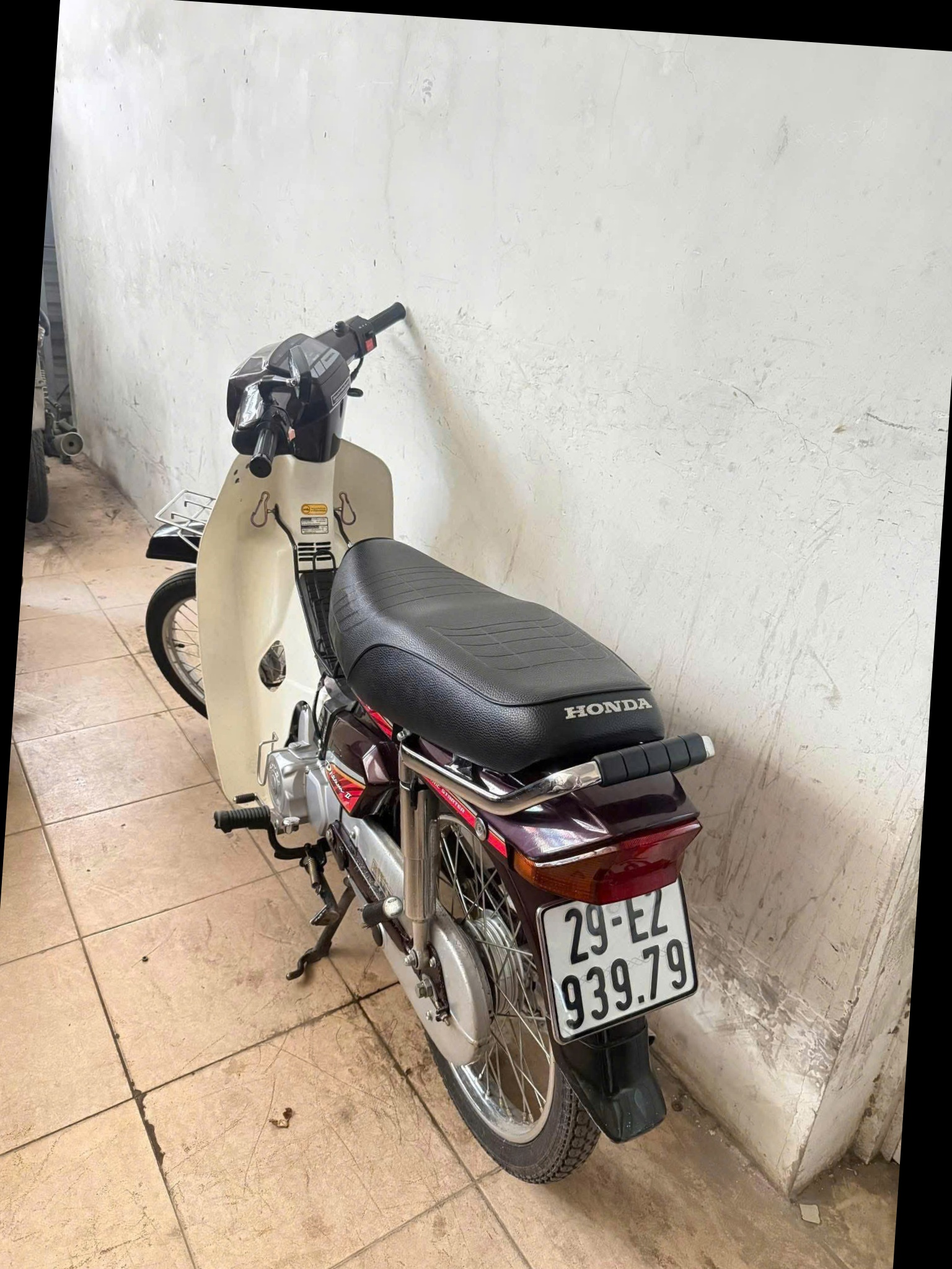Bien-so: (572, 808, 762, 995)
